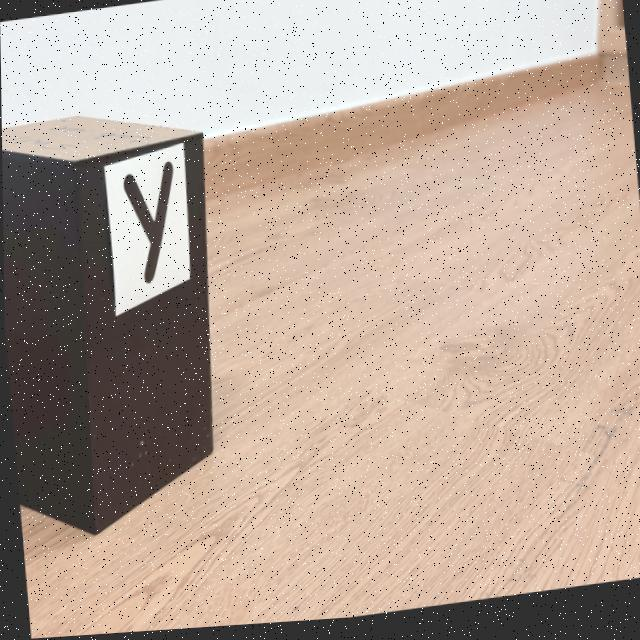Y: (122, 163, 172, 285)
